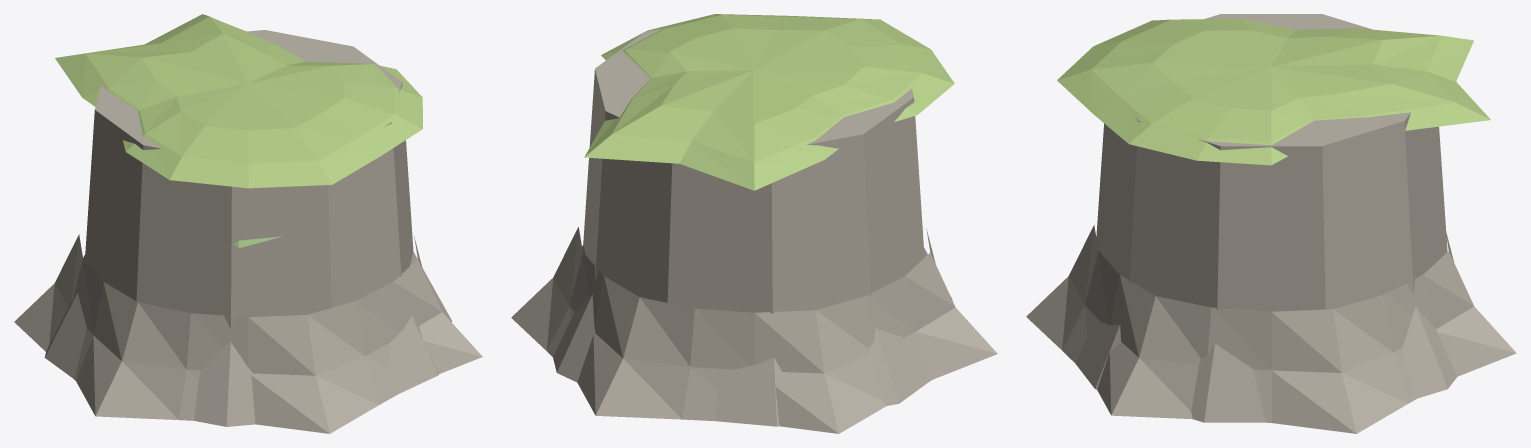
The model's file is temperate-forest-ecology-mossy-stump-decayed-52d7058d__3821.glb.
The picture shows the model from 3 angles, left to right: view 1: azimuth 30°, elevation 25°; view 2: azimuth 150°, elevation 25°; view 3: azimuth 270°, elevation 25°; orthographic projection. The views are drawn at different scales.
Parts seen in each view (by area): view 1: mossy-stump-decayed; view 2: mossy-stump-decayed; view 3: mossy-stump-decayed.
Boxes of the visible parts, bbox=[...] form: mossy-stump-decayed: bbox=[14, 14, 482, 433]; mossy-stump-decayed: bbox=[511, 14, 997, 433]; mossy-stump-decayed: bbox=[1026, 14, 1516, 433].
Bounding box in the file's own units: 1.3 × 0.82 × 1.36.
